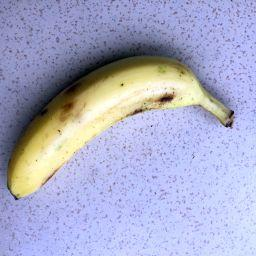Banana Ripe: (9, 51, 248, 202)
